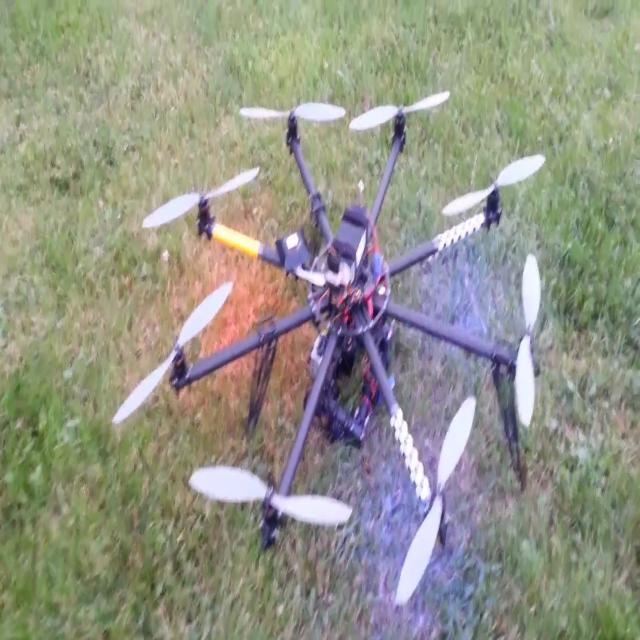drone: (119, 78, 579, 640)
